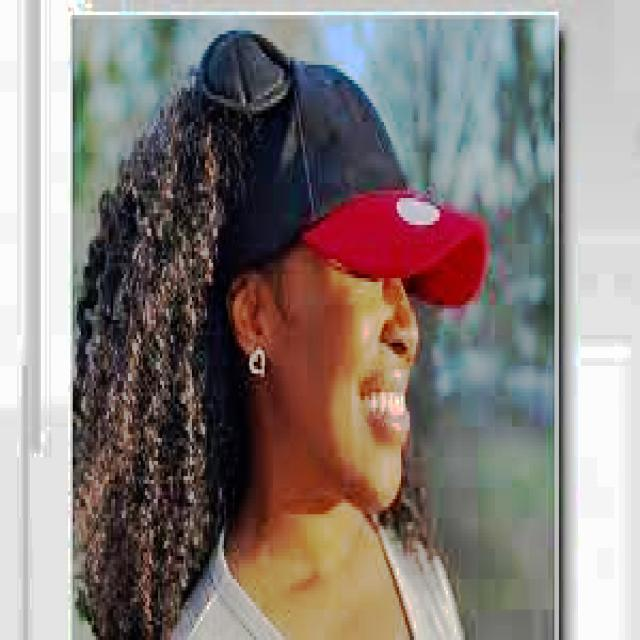TOPI: (172, 19, 490, 320)
